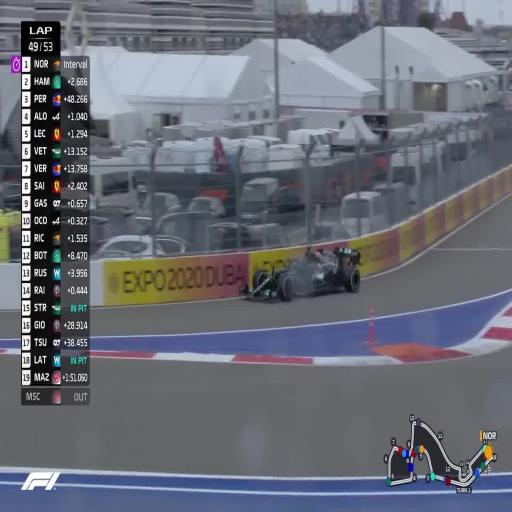f1_car: (240, 247, 361, 301)
